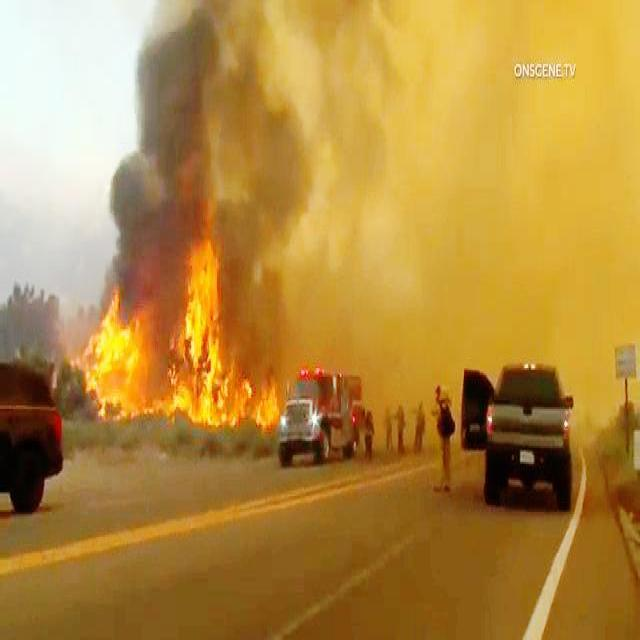Fire: (177, 212, 230, 426), (73, 308, 142, 428), (250, 362, 285, 432)
Smoke: (127, 7, 640, 246), (232, 250, 640, 358)
